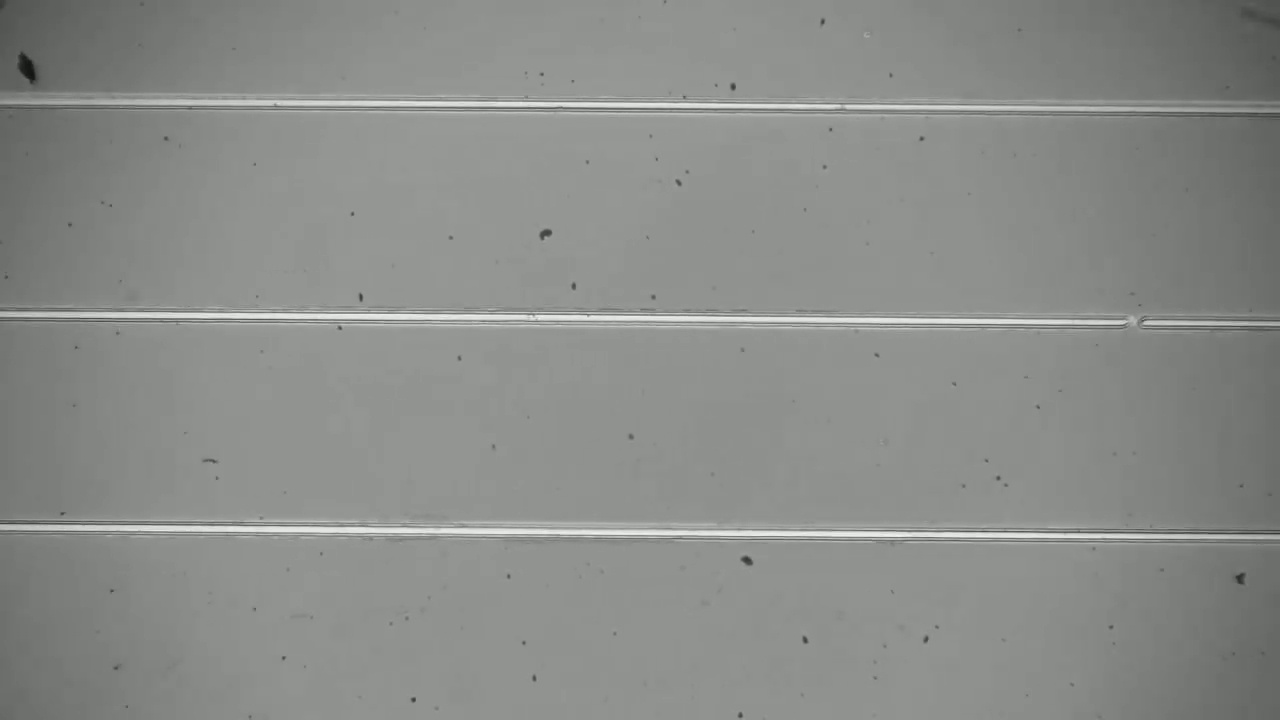open: (1108, 297, 1155, 343)
